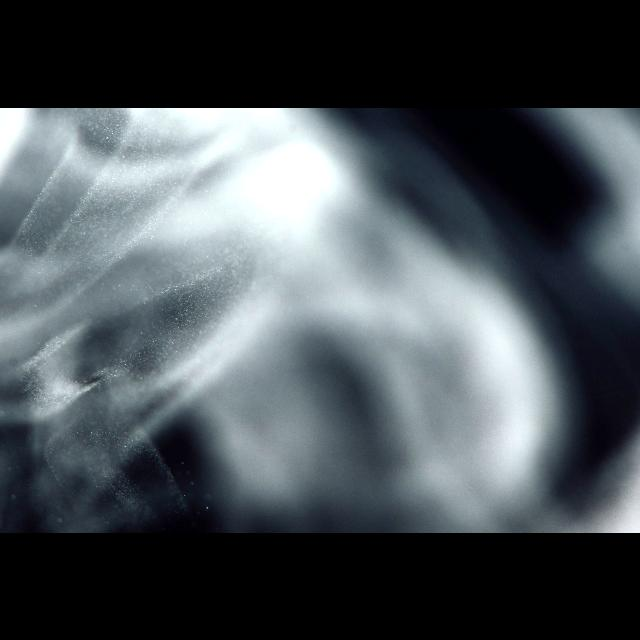smoke: (0, 107, 640, 533)
